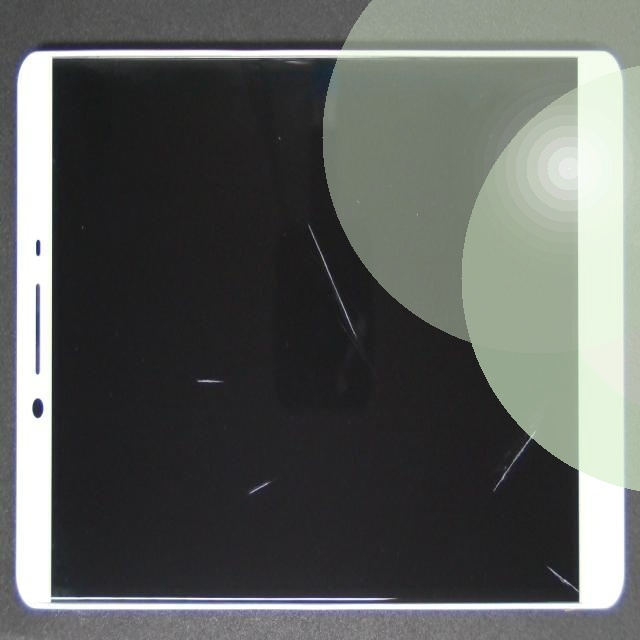scratch: (294, 152, 640, 638), (159, 189, 534, 519), (309, 310, 640, 640), (130, 262, 412, 640), (88, 149, 292, 562)
